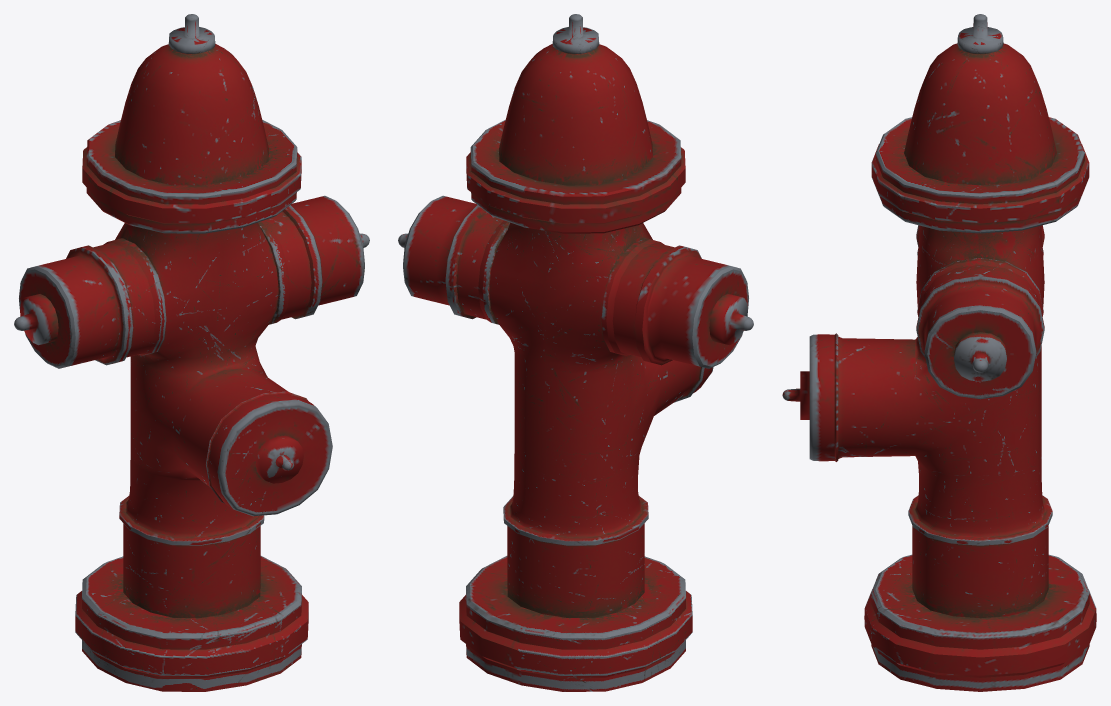
File: hydrant.fbx
3 renders of one model, left to right at view 1: azimuth 30°, elevation 25°; view 2: azimuth 150°, elevation 25°; view 3: azimuth 270°, elevation 25°, orthographic.
Parts seen in each view (by area): view 1: pCube1; view 2: pCube1; view 3: pCube1.
Boxes of the visible parts, <box> form: pCube1: <box>14,14,369,691</box>; pCube1: <box>398,14,753,691</box>; pCube1: <box>782,14,1096,691</box>.
Bounding box in the file's own units: 0.7839 × 1.33 × 0.6023.
Materials: 1 (1 with a texture image).
